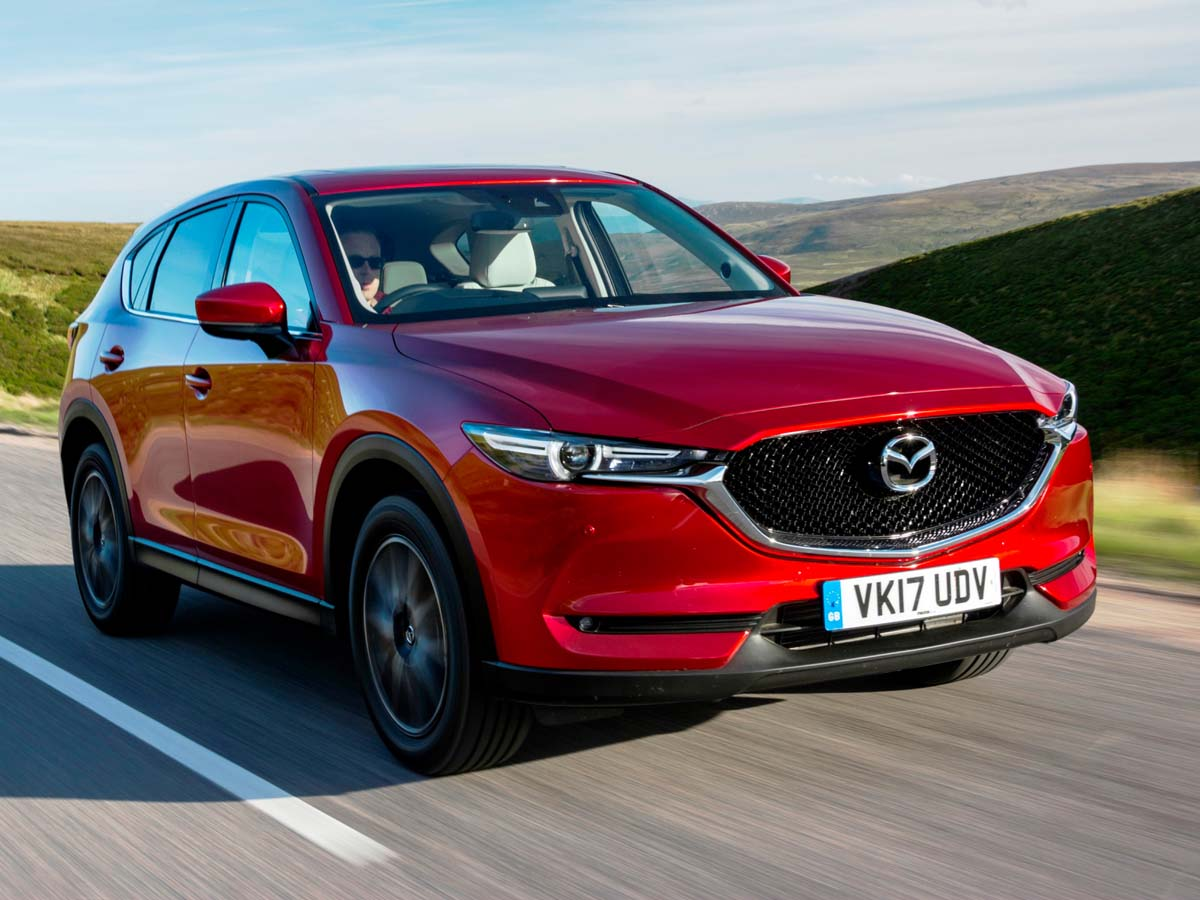car: (59, 167, 1096, 781)
